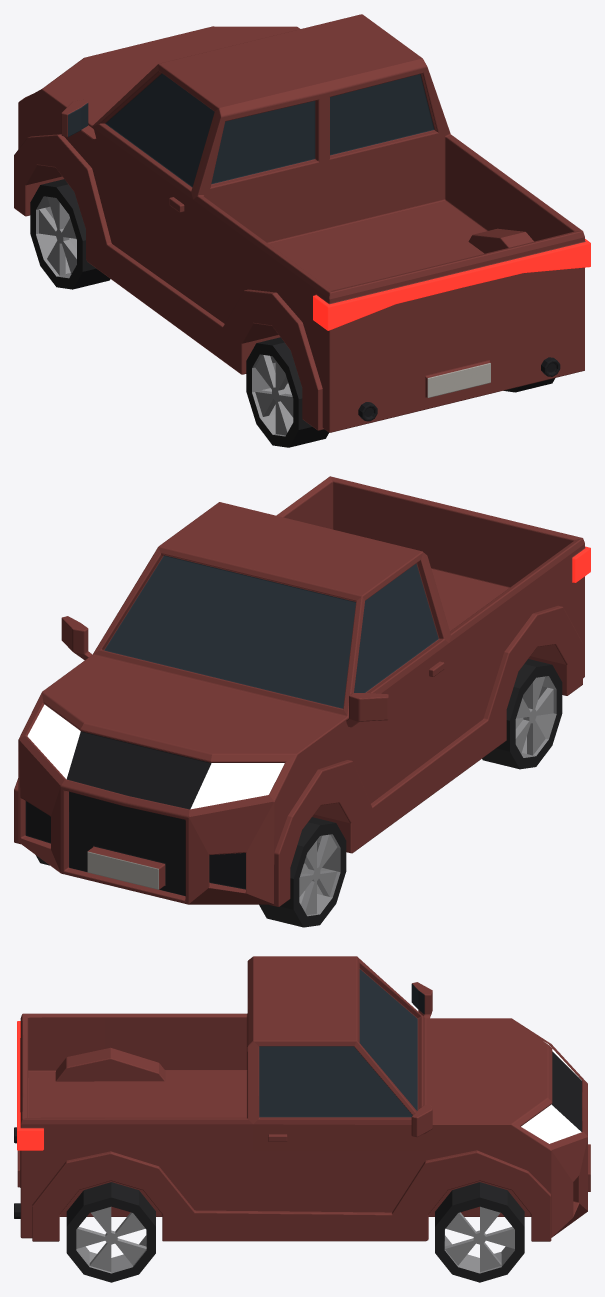
File: pickup.glb
3 views of the same model, one above another, from view 1: azimuth 30°, elevation 25°; view 2: azimuth 150°, elevation 25°; view 3: azimuth 270°, elevation 25° (orthographic). The views are drawn at different scales.
Visible parts, largest first — view 1: truck-body, wheel-rl, wheel-fl; view 2: truck-body, wheel-fl, wheel-rl; view 3: truck-body, wheel-rr, wheel-fr.
Part boxes in pixels (x1,y1,x2,y2): truck-body: (14, 14, 590, 432); wheel-rl: (246, 337, 328, 447); wheel-fl: (30, 179, 110, 289); truck-body: (14, 476, 590, 906); wheel-fl: (259, 817, 346, 927); wheel-rl: (482, 659, 562, 769); truck-body: (14, 956, 590, 1241); wheel-rr: (66, 1182, 155, 1282); wheel-fr: (435, 1182, 524, 1282).
Bounding box in the file's own units: 2.3 × 1.81 × 4.13.
